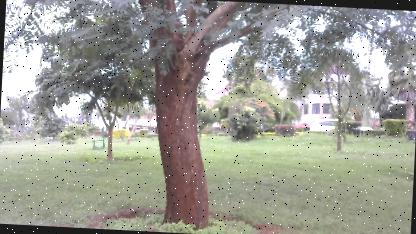tree: (6, 0, 272, 231)
